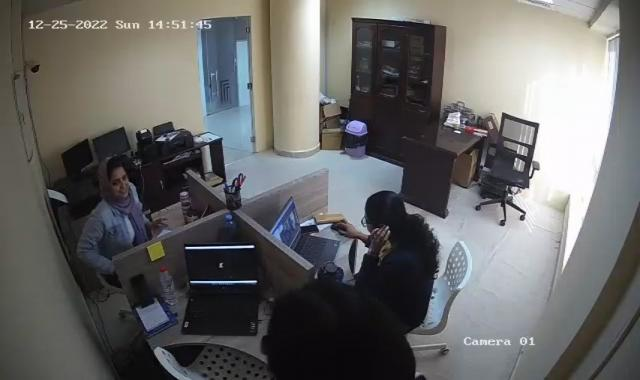no_hairnet: (266, 280, 414, 380), (96, 156, 132, 202), (365, 190, 407, 225)
